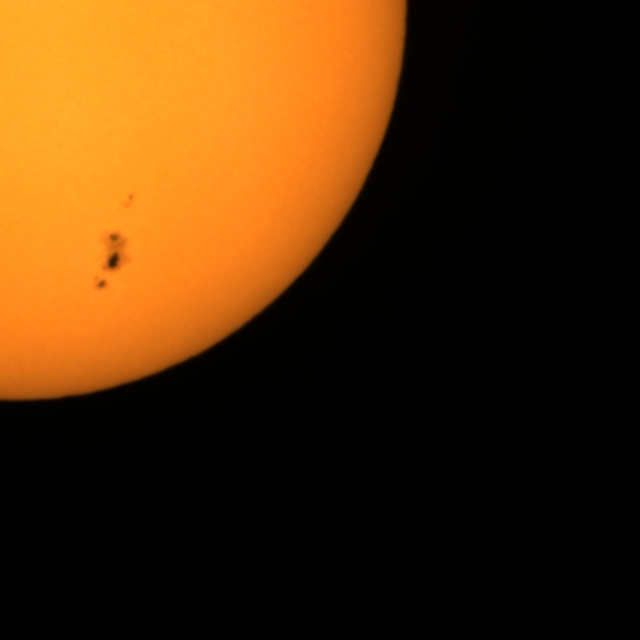sunspot: (98, 230, 134, 301), (119, 190, 138, 213)
